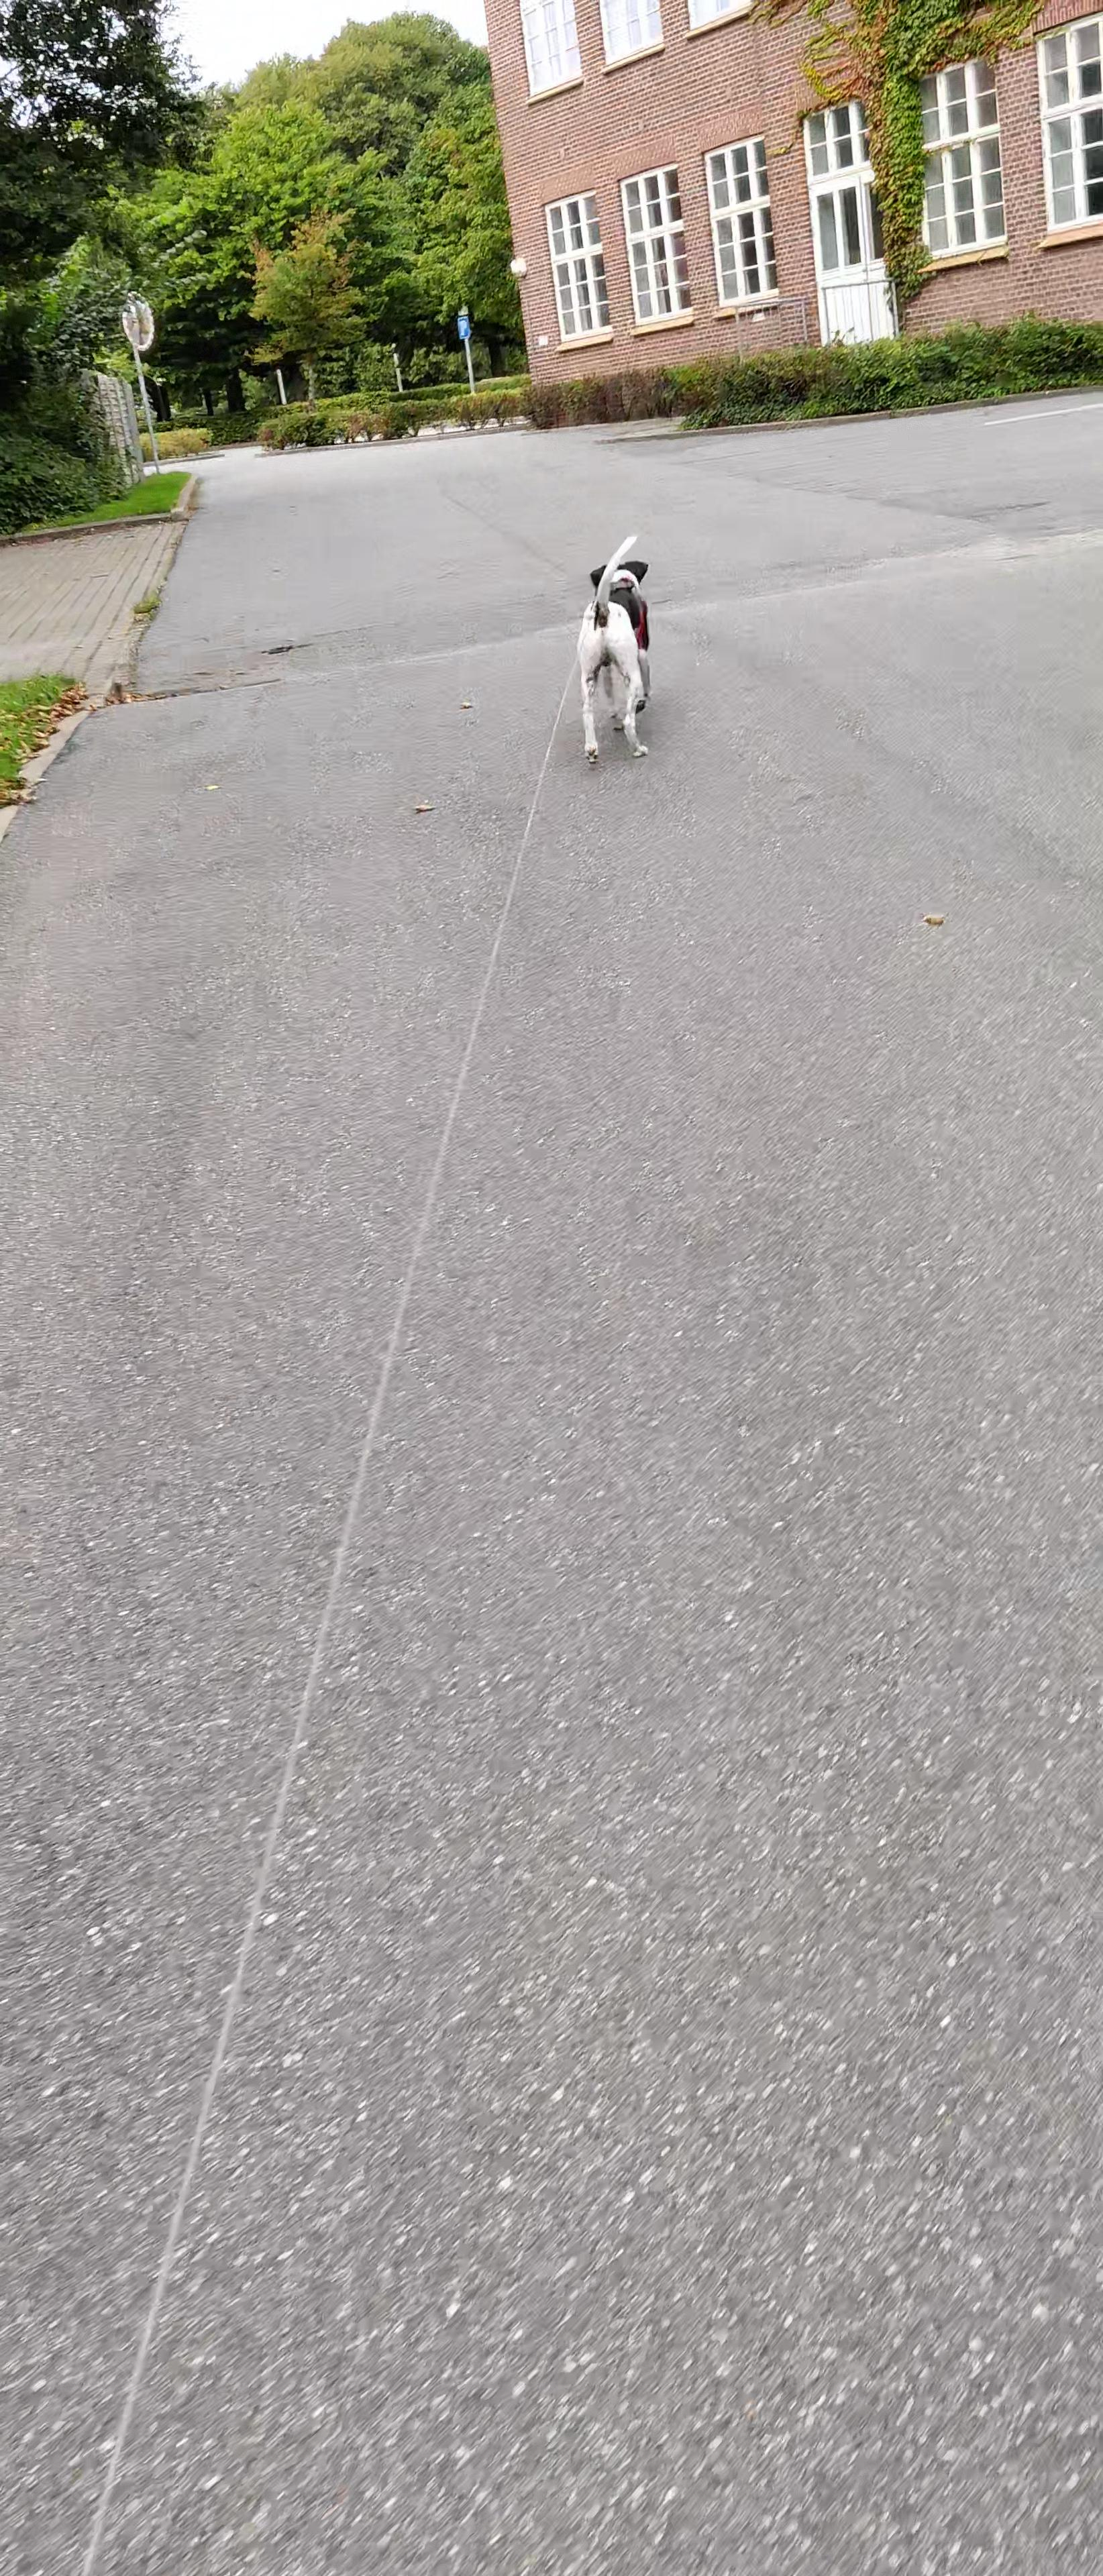Dog: (570, 531, 661, 769)
